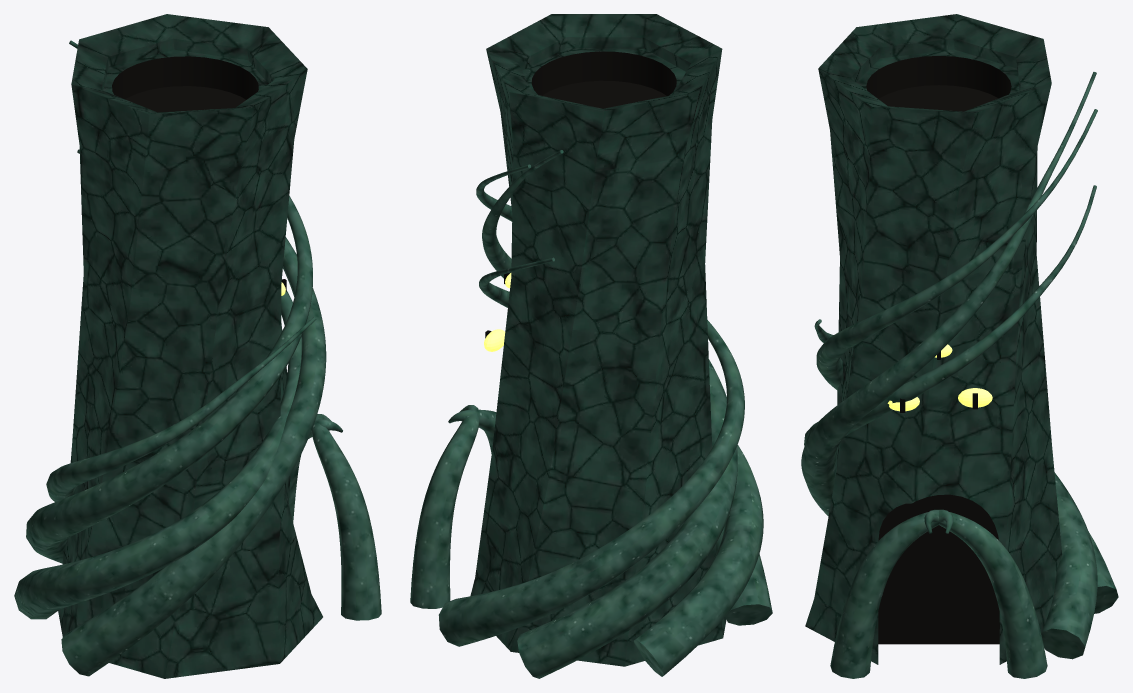
Rendered from cthulhu-shrine.glb.
The picture shows the model from 3 angles, left to right: view 1: azimuth 30°, elevation 25°; view 2: azimuth 150°, elevation 25°; view 3: azimuth 270°, elevation 25°; orthographic projection.
Visible parts, largest first — view 1: shrine, tentacles; view 2: shrine, tentacles; view 3: shrine, tentacles, eyes.001.
Part boxes in pixels (x1,y1,x2,y2): shrine: (58,14,322,678); tentacles: (14,40,381,676); shrine: (470,14,726,666); tentacles: (410,150,772,678); shrine: (805,14,1062,664); tentacles: (801,72,1118,678); eyes.001: (887,344,992,411).
Bounding box in the file's own units: 8.43 × 15.21 × 7.86.
Materials: 5 (2 with a texture image).
